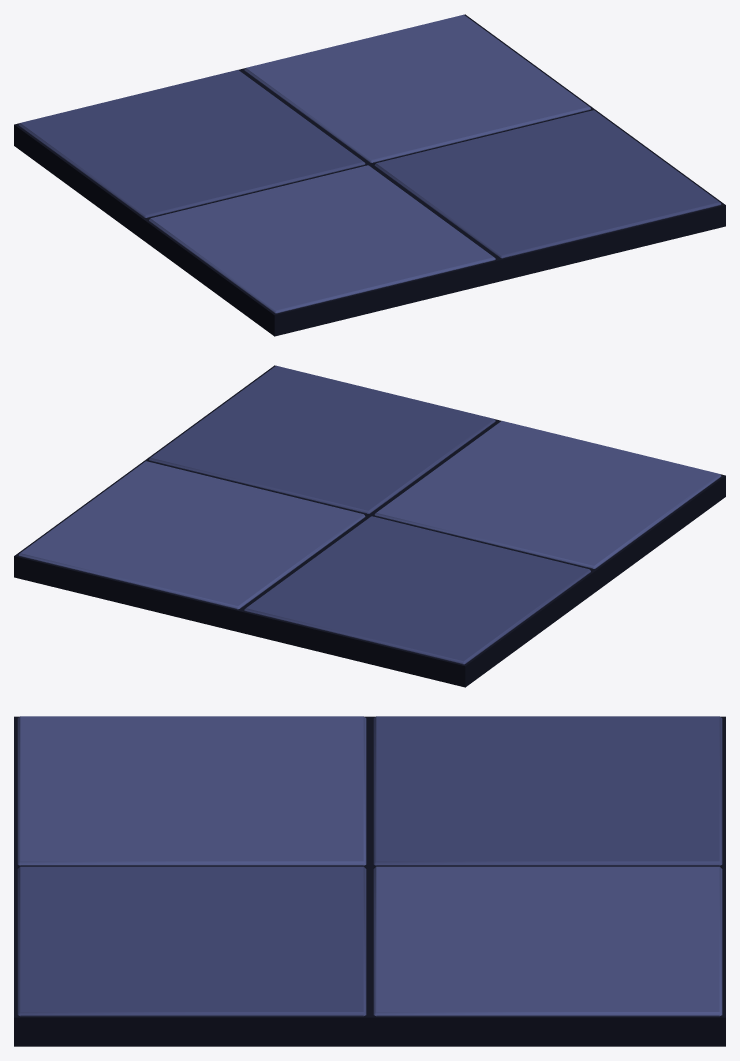
The model's file is floor.glb.
3 renders of one model, top to bottom at view 1: azimuth 30°, elevation 25°; view 2: azimuth 150°, elevation 25°; view 3: azimuth 270°, elevation 25°, orthographic. The views are drawn at different scales.
Visible parts, largest first — view 1: Body; view 2: Body; view 3: Body.
Boxes of the visible parts, <box> form: Body: <box>14,14,725,336</box>; Body: <box>14,365,725,687</box>; Body: <box>14,716,725,1046</box>.
Bounding box in the file's own units: 4 × 0.2 × 4.
